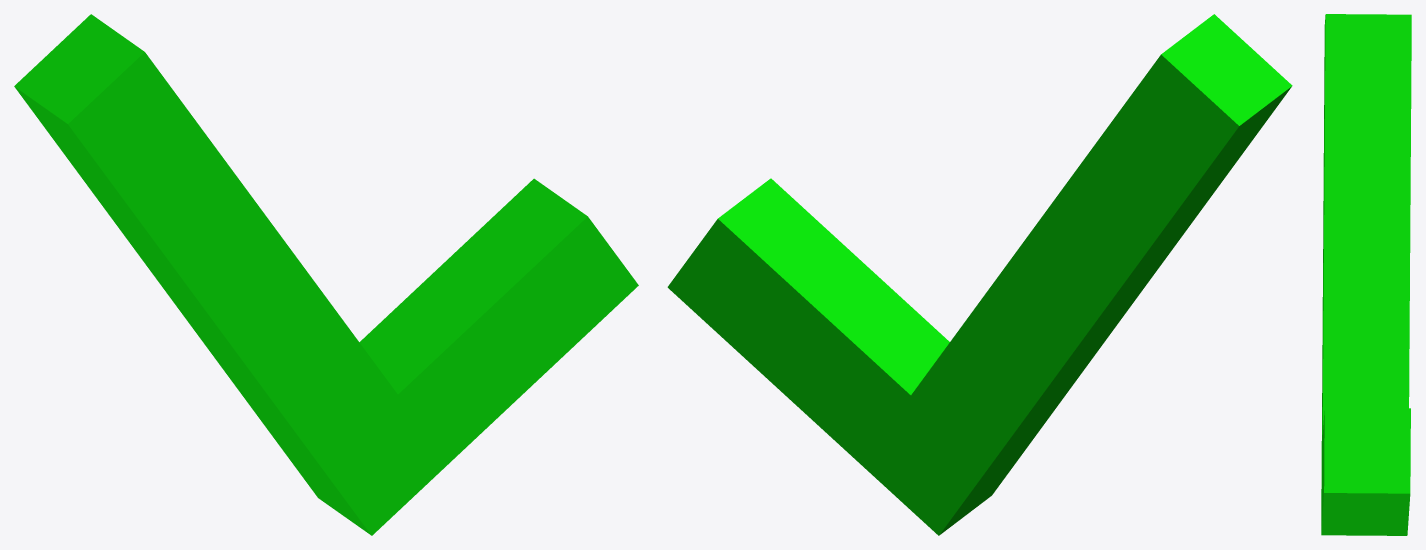
The model's file is GreenCheck.fbx.
3 views of the same model, side by side, from view 1: azimuth 30°, elevation 25°; view 2: azimuth 150°, elevation 25°; view 3: azimuth 270°, elevation 25° (orthographic). The views are drawn at different scales.
Parts seen in each view (by area): view 1: pCube1; view 2: pCube1; view 3: pCube1.
Part boxes in pixels (x1,y1,x2,y2): pCube1: (14, 14, 638, 535); pCube1: (667, 14, 1292, 535); pCube1: (1321, 14, 1411, 535).
Bounding box in the file's own units: 6.17 × 5.55 × 1.05.
